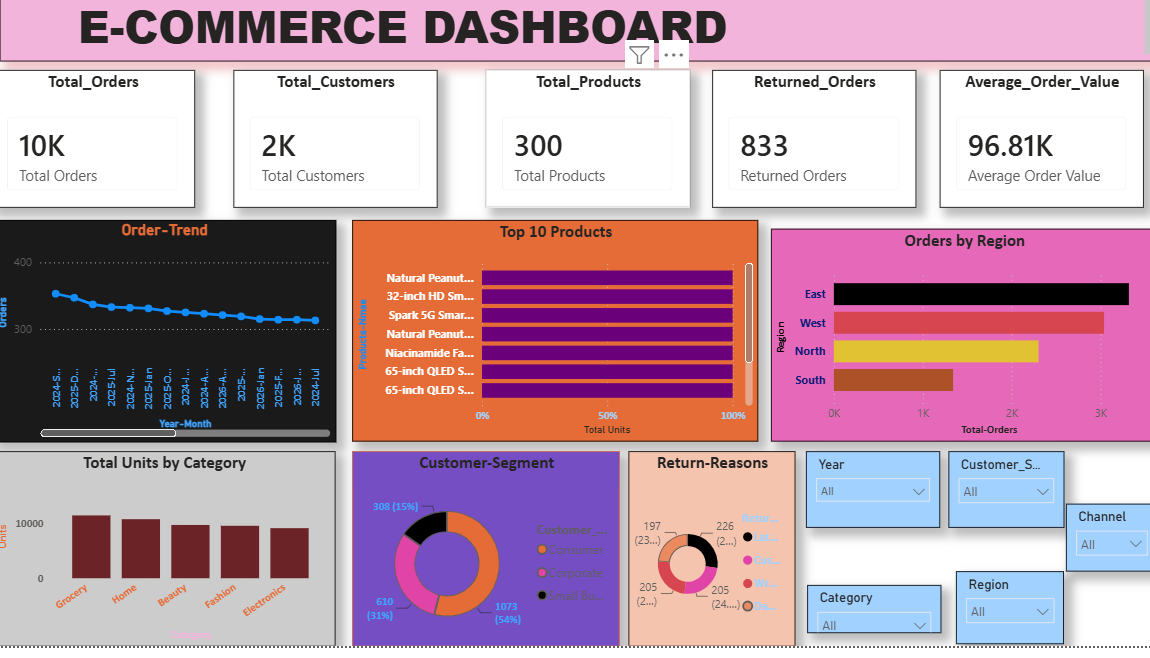

Layout of this report page (visuals, bound fields, positions):
{"tool":"powerbi","page":{"name":"Page 1","canvas":[1280,720],"ordinal":0},"visuals":[{"type":"textbox","box":[9.6,0,1270.7,78.2],"z":0},{"type":"cardVisual","title":"Total_Orders","fields":{"Data":["Customers.Total Orders"]},"box":[0,87.8,223.7,150.9],"z":1000},{"type":"cardVisual","title":"Total_Customers","fields":{"Data":["Customers.Total Customers"]},"box":[266.2,87.8,223.7,150.9],"z":2000},{"type":"cardVisual","title":"Total_Products","fields":{"Data":["Customers.Total Products"]},"box":[543.4,87.8,223.7,150.9],"z":3000},{"type":"cardVisual","title":"Returned_Orders","fields":{"Data":["Customers.Returned Orders"]},"box":[791.8,87.8,223.7,150.9],"z":4000},{"type":"cardVisual","title":"Average_Order_Value","fields":{"Data":["Customers.Average Order Value"]},"box":[1041.5,87.8,223.7,150.9],"z":5000},{"type":"lineChart","title":"Order-Trend","fields":{"Category":["Date_Table.Year Month"],"Y":["Customers.Total Orders"]},"box":[1.4,252.5,377.4,244.3],"z":6000},{"type":"clusteredColumnChart","fields":{"Category":["Products.Category"],"Y":["Customers.Total Units"]},"box":[1,506,377,214],"z":7000},{"type":"hundredPercentStackedBarChart","title":"Top 10 Products","fields":{"Category":["Products.Product_Name"],"Y":["Customers.Total Units"]},"box":[396.6,252.5,446,242.9],"z":8000},{"type":"donutChart","title":"Customer-Segment","fields":{"Category":["Customers.Customer_Segment"],"Y":["Customers.Total Customers"]},"box":[396.6,506.3,293.7,214.1],"z":9000},{"type":"barChart","title":" Orders by Region","fields":{"Category":["Stores.Region"],"Y":["Customers.Total Orders"]},"box":[856.3,262.1,424,233.3],"z":10000},{"type":"donutChart","title":" Return-Reasons","fields":{"Category":["Returns.Return_Reason"],"Y":["Customers.Returned Orders"]},"box":[700,505.7,182.9,214.3],"z":11000},{"type":"slicer","fields":{"Values":["Date_Table.Year"]},"box":[894.3,505.7,147.1,84.3],"z":12000},{"type":"slicer","fields":{"Values":["Products.Category"]},"box":[895.7,652.9,147.1,52.9],"z":13000},{"type":"slicer","fields":{"Values":["Customers.Customer_Segment"]},"box":[1051.4,505.7,127.1,84.3],"z":14000},{"type":"slicer","fields":{"Values":["Customers.Region"]},"box":[1060,638.6,118.6,80],"z":15000},{"type":"slicer","fields":{"Values":["Orders.Channel"]},"box":[1180,564.3,100,74.3],"z":16000}]}

Visuals, with their boxes in screenshot pixels (x1, y1, x2, y2), scaled from the page's 1280x720 canvas onto the 1150x658 screenshot:
textbox: Rect(9, 0, 1149, 71)
"Total_Orders" cardVisual: Rect(0, 80, 201, 218)
"Total_Customers" cardVisual: Rect(239, 80, 440, 218)
"Total_Products" cardVisual: Rect(488, 80, 689, 218)
"Returned_Orders" cardVisual: Rect(711, 80, 912, 218)
"Average_Order_Value" cardVisual: Rect(936, 80, 1137, 218)
"Order-Trend" lineChart: Rect(1, 231, 340, 454)
clusteredColumnChart - Products.Category x Customers.Total Units: Rect(1, 462, 340, 657)
"Top 10 Products" hundredPercentStackedBarChart: Rect(356, 231, 757, 453)
"Customer-Segment" donutChart: Rect(356, 463, 620, 657)
" Orders by Region" barChart: Rect(769, 240, 1149, 453)
" Return-Reasons" donutChart: Rect(629, 462, 793, 657)
slicer - Date_Table.Year: Rect(803, 462, 936, 539)
slicer - Products.Category: Rect(805, 597, 937, 645)
slicer - Customers.Customer_Segment: Rect(945, 462, 1059, 539)
slicer - Customers.Region: Rect(952, 584, 1059, 657)
slicer - Orders.Channel: Rect(1060, 516, 1149, 584)
